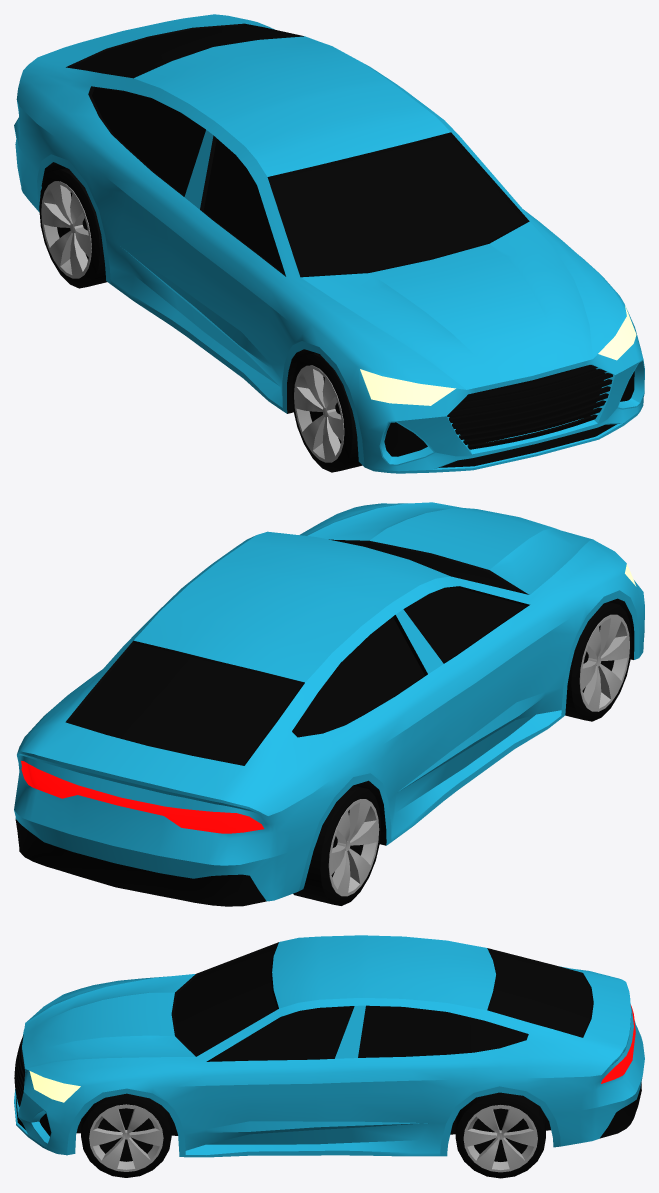
File: low_poly_audi_rs7.glb
3 views of the same model, one above another, from view 1: azimuth 30°, elevation 25°; view 2: azimuth 150°, elevation 25°; view 3: azimuth 270°, elevation 25° (orthographic). The views are drawn at different scales.
Parts seen in each view (by area): view 1: RS7, BR_Wheel, FR_Wheel; view 2: RS7, BR_Wheel, FR_Wheel; view 3: RS7, BL_Wheel, FL_Wheel.
Part boxes in pixels (x1=…): RS7: x1=14, y1=14, x2=644, y2=473; BR_Wheel: x1=39, y1=168, x2=106, y2=288; FR_Wheel: x1=292, y1=353, x2=362, y2=472; RS7: x1=14, y1=502, x2=644, y2=906; BR_Wheel: x1=293, y1=785, x2=380, y2=905; FR_Wheel: x1=565, y1=602, x2=631, y2=721; RS7: x1=14, y1=935, x2=644, y2=1157; BL_Wheel: x1=455, y1=1092, x2=545, y2=1178; FL_Wheel: x1=81, y1=1093, x2=171, y2=1177.
Bounding box in the file's own units: 1.91 × 1.41 × 4.88.
